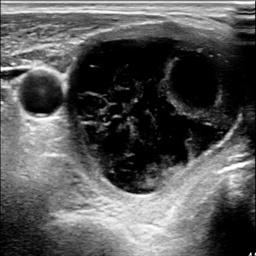mass: (70, 37, 245, 195)
